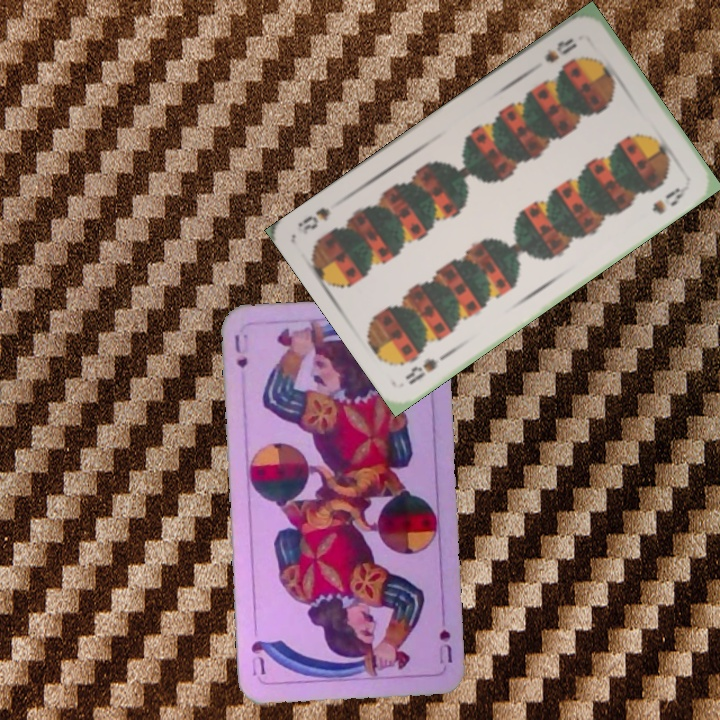S8: (401, 347, 454, 388), (541, 34, 580, 66)
SU: (231, 330, 250, 371), (435, 626, 454, 666)
